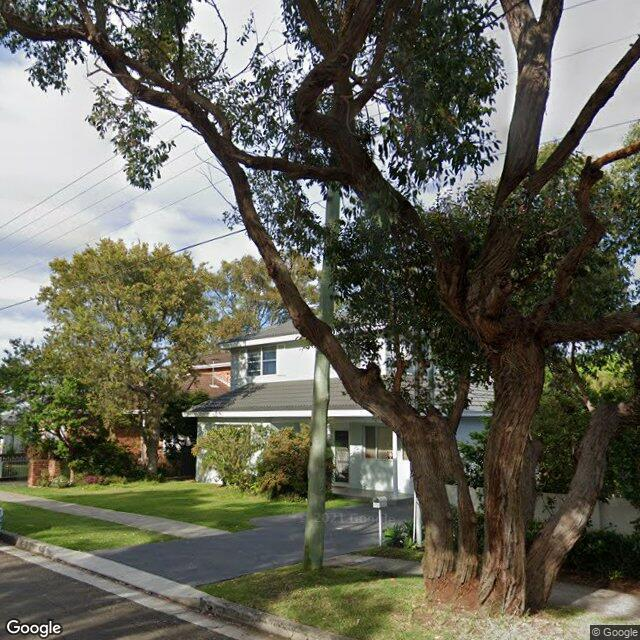timber-pole: (303, 183, 340, 577)
